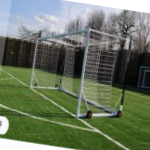goals: (28, 25, 122, 122)
